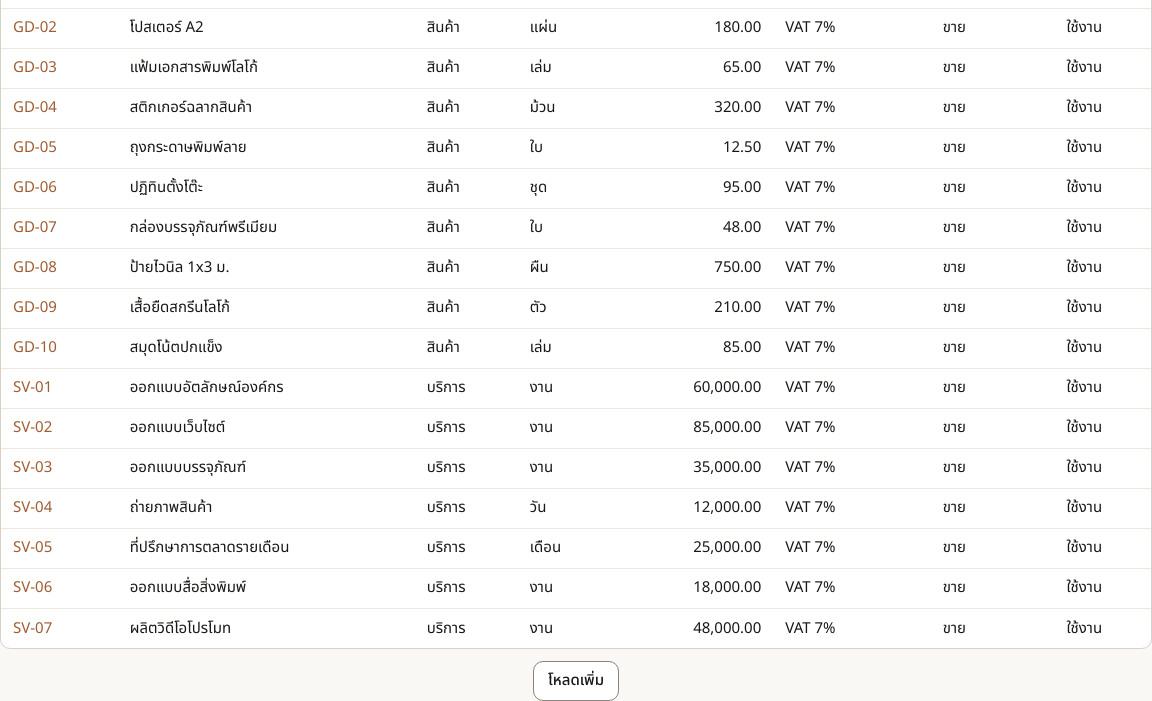
it: item list and form (a record kind with no detail page) › edit from the row: conditional fields follow the kind and the purchase usage
The image size is (1152, 701).
(page scrolled)
Click the button "SV-01" at (33, 388), box [13,376,52,400]
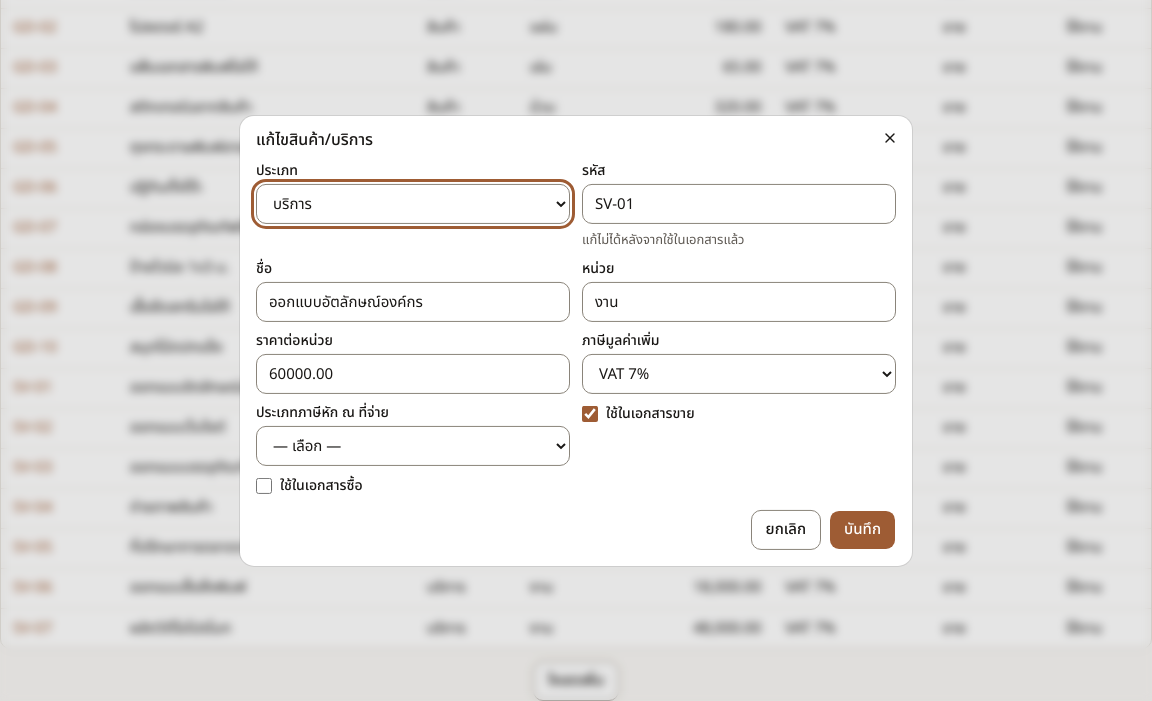
Result: the field labelled "ชื่อ" holds "ออกแบบอัตลักษณ์องค์กร" at [256,282,570,322]
Result: the dropdown labelled "ภาษีมูลค่าเพิ่ม" shows "VAT 7%" at [582,354,896,394]
Result: the dropdown labelled "ประเภทภาษีหัก ณ ที่จ่าย" is shown at [256,426,570,466]
Click the checkbox labelled "ใช้ในเอกสารซื้อ" at (264, 486), box [256,478,272,494]
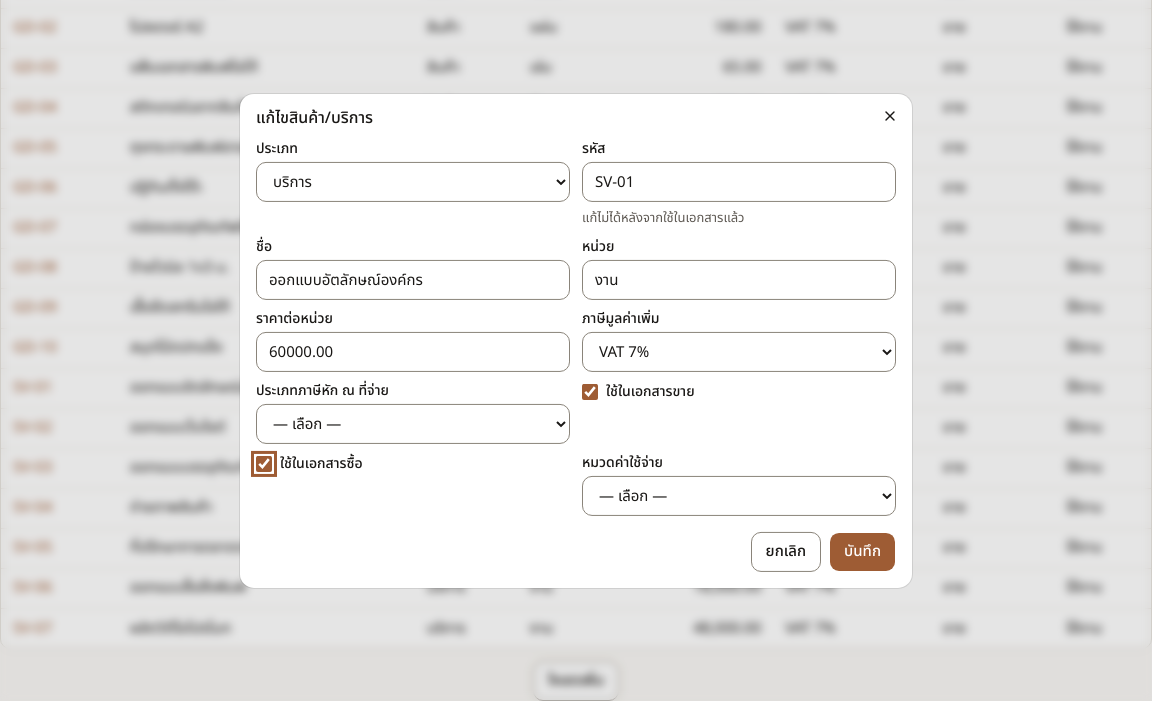
Result: the dropdown labelled "หมวดค่าใช้จ่าย" is shown at [582,476,896,516]
Select "สินค้า" in the dropdown labelled "ประเภท" at (413, 182), box [256,162,570,202]
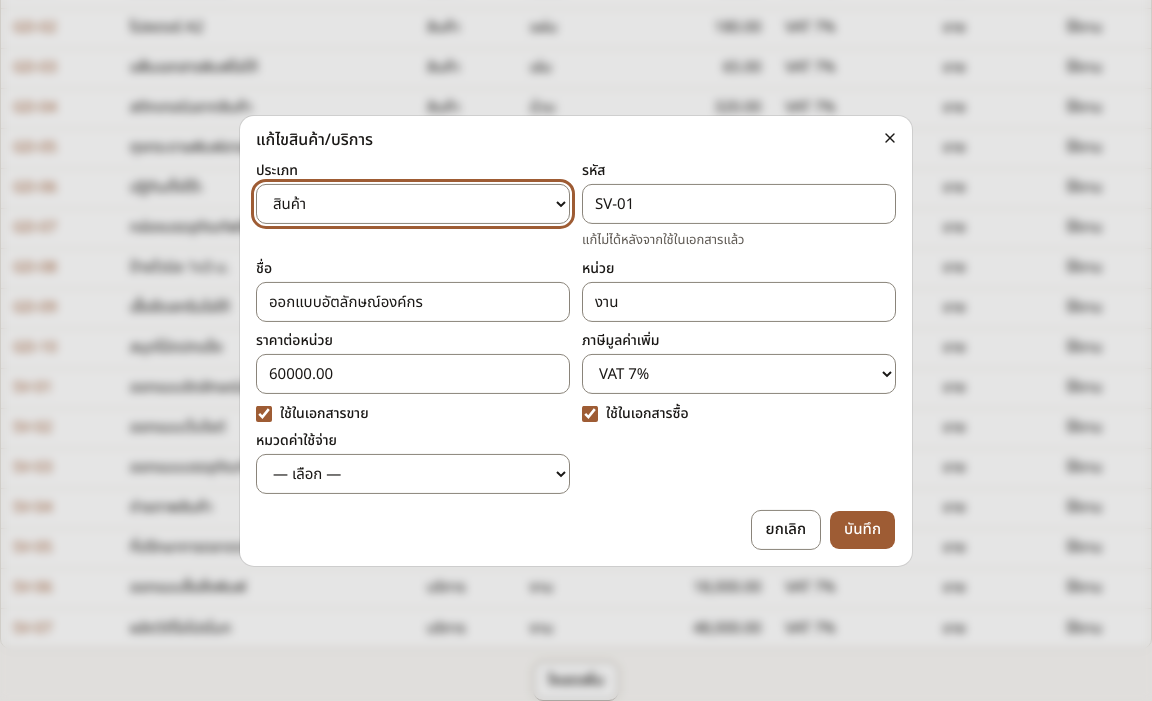
Result: the label labelled "ประเภทภาษีหัก ณ ที่จ่าย" is gone
